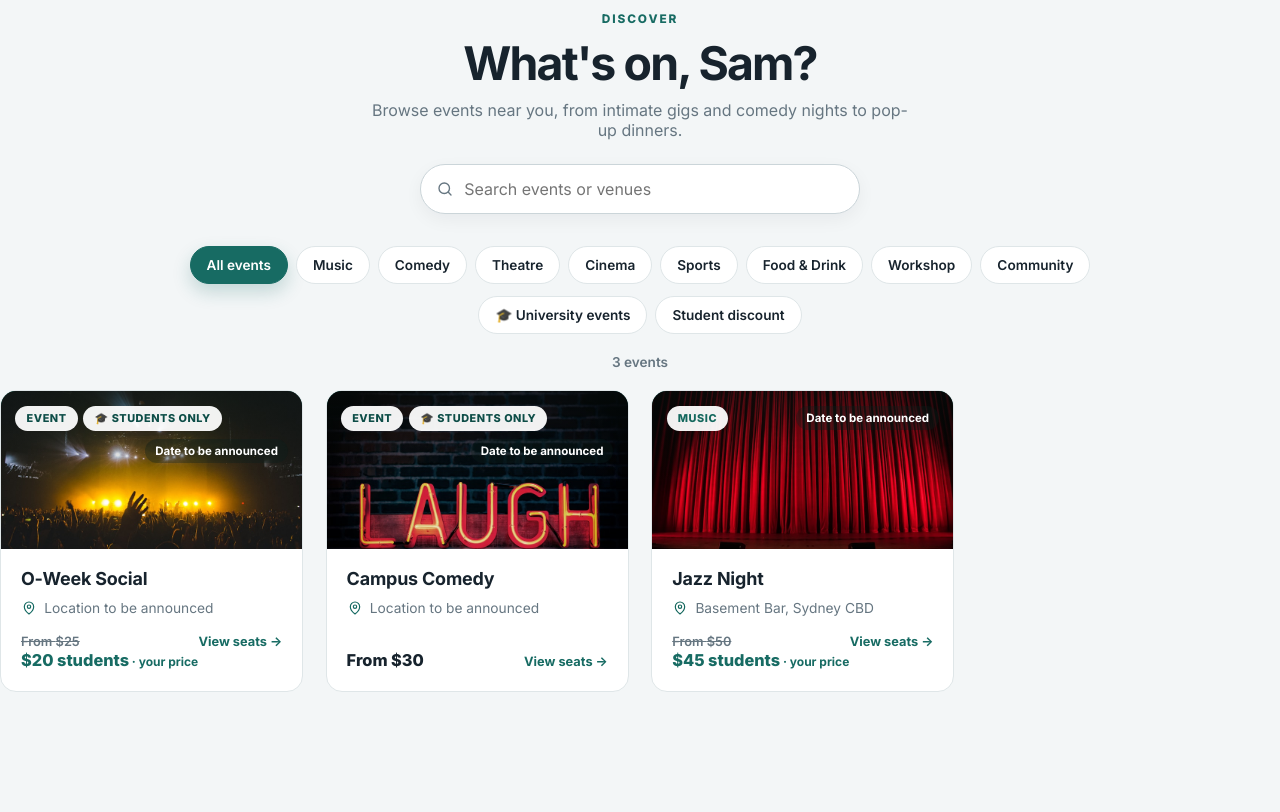
Test case: BrowseEventsPage student filters (US 12) › filters to student-discounted events, and combines with the university filter
The image size is (1280, 812).
Expected: the heading "O-Week Social" is shown, [21, 568, 147, 589]
Click the button "Student discount": x=728, y=315 [655, 296, 802, 334]
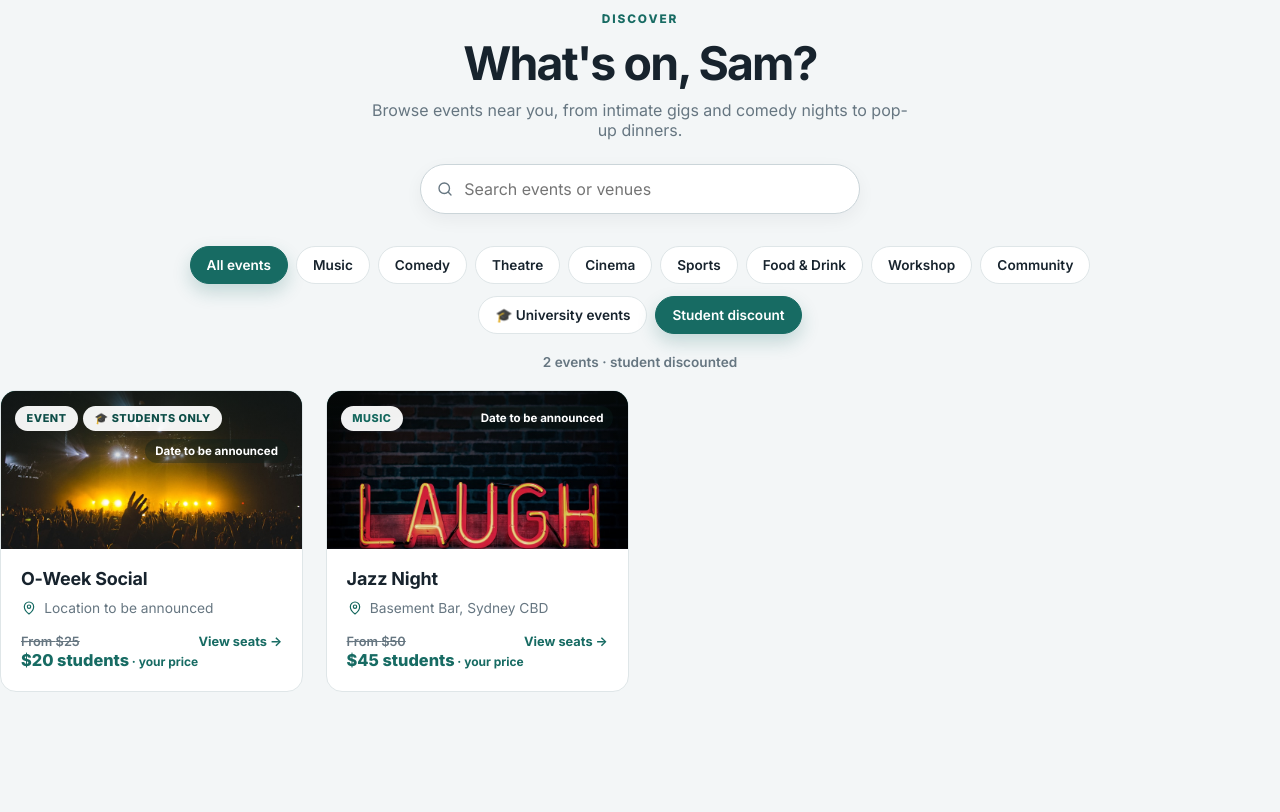
Expected: the heading "Jazz Night" is shown, [347, 568, 438, 589]
Now the link "Campus Comedy" is gone
Click the button "🎓 University events": x=563, y=315 [478, 296, 647, 334]
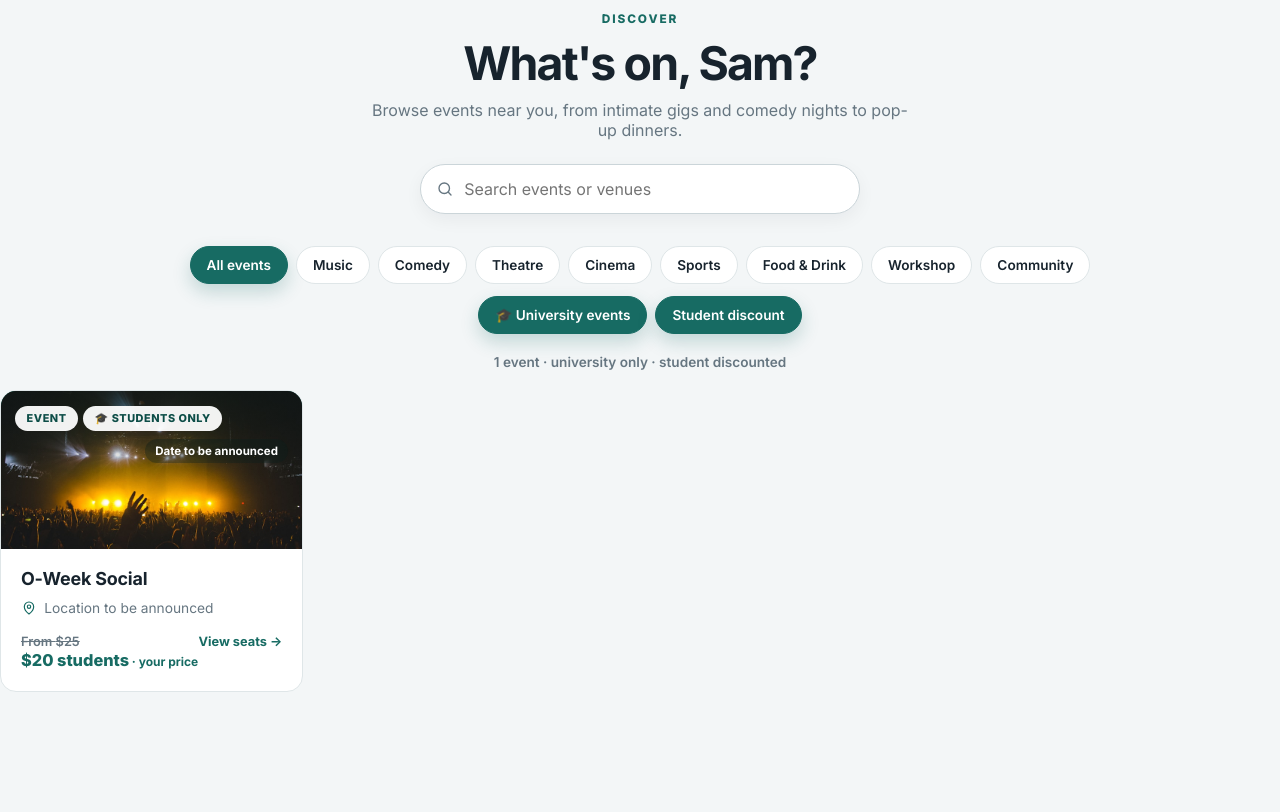
Expected: the heading "O-Week Social" is shown, [21, 568, 147, 589]
Now the link "Jazz Night" is gone
